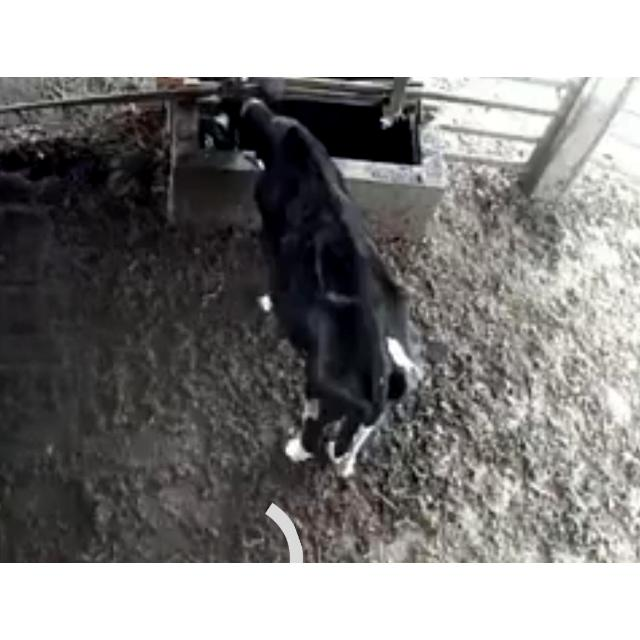drink: (204, 77, 330, 181)
